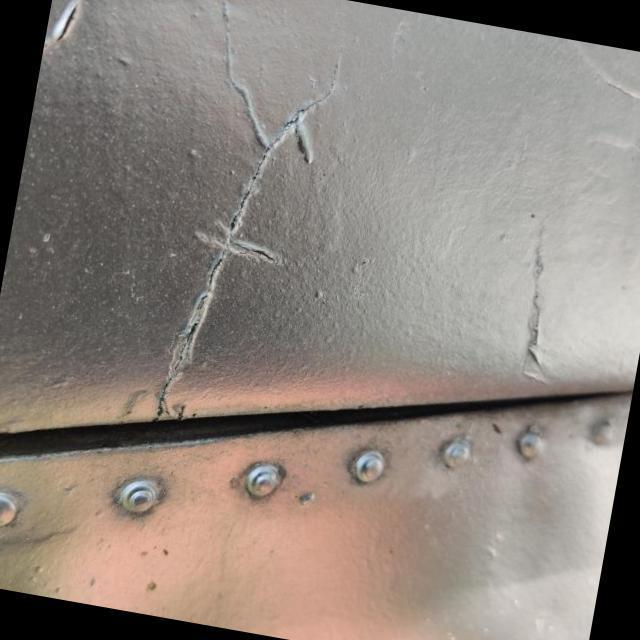Rupture: (108, 10, 382, 468)
